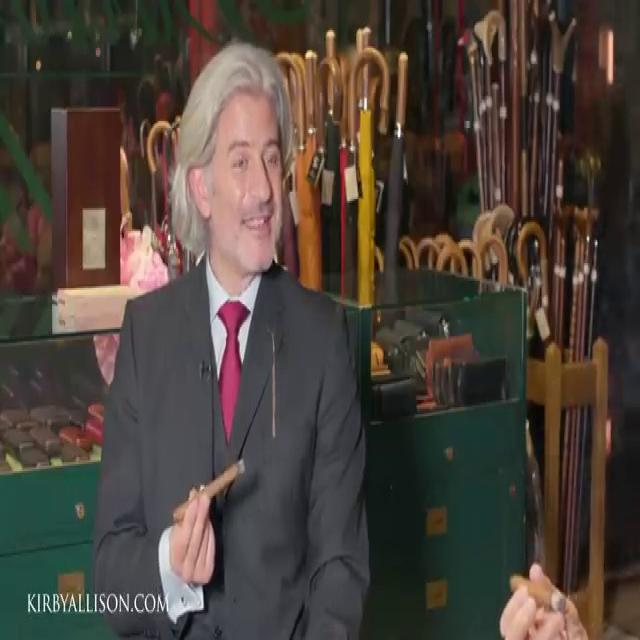Smooking: (172, 451, 251, 528), (508, 570, 574, 620)
